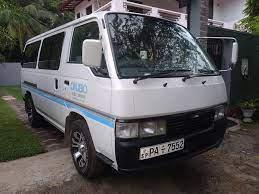van: (21, 5, 233, 174)
